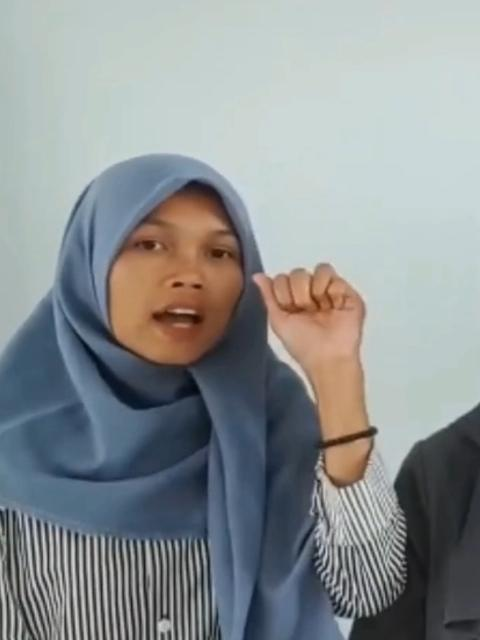A: (247, 260, 385, 390)
